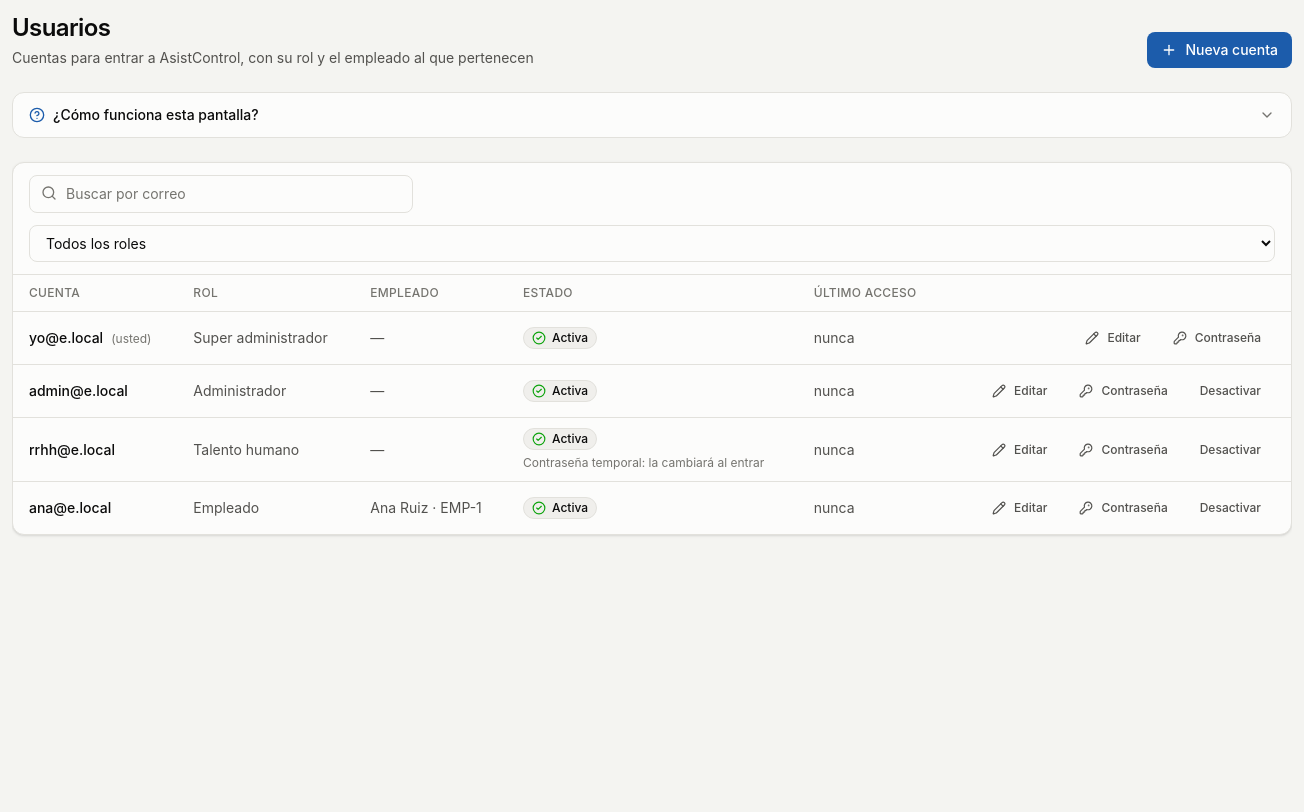
Test: UsersPage › never offers to deactivate or demote yourself
The width and height of the screenshot is (1304, 812).
Click the button "Editar" in the row of "yo@e.local". click: {"x": 1113, "y": 338}
box: top-left (1071, 322), bottom-right (1155, 354)
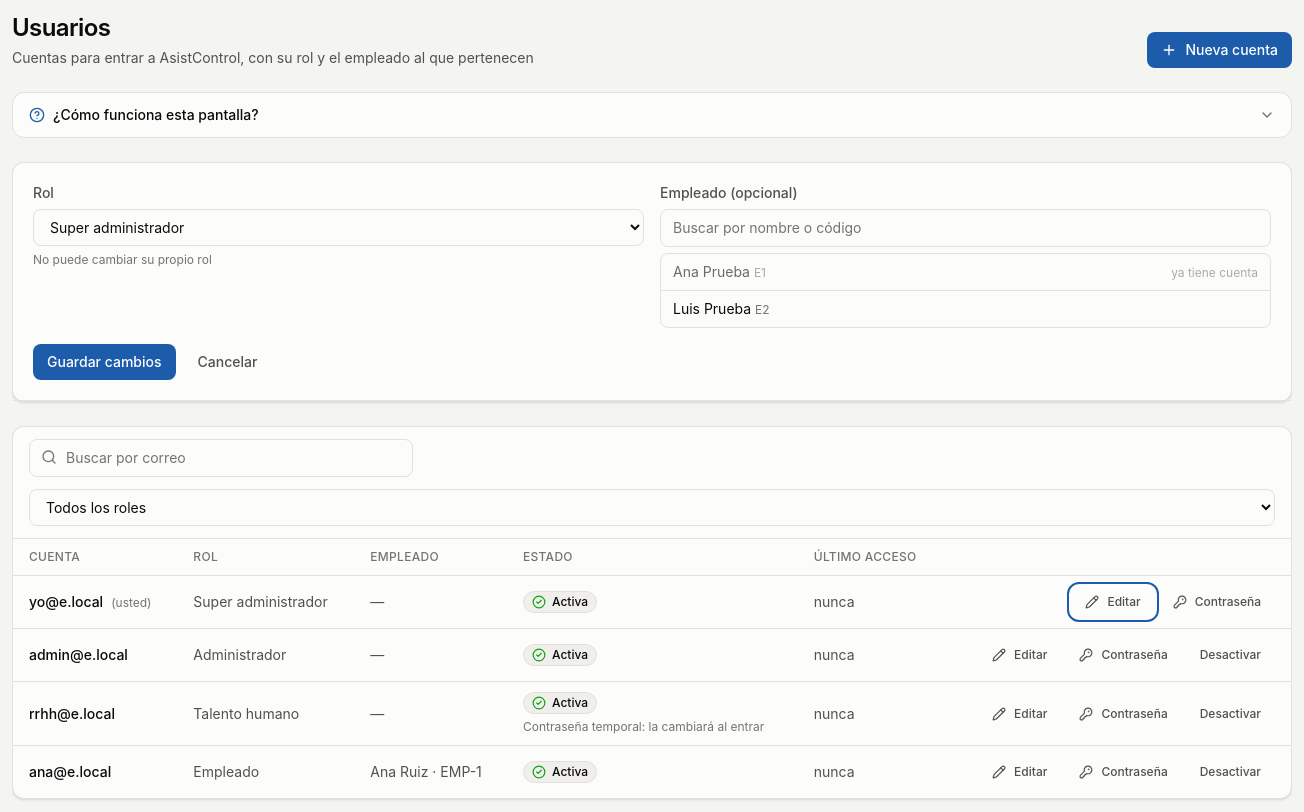
Expected: the dropdown labelled "Rol" is disabled, top-left (33, 209), bottom-right (644, 246)
